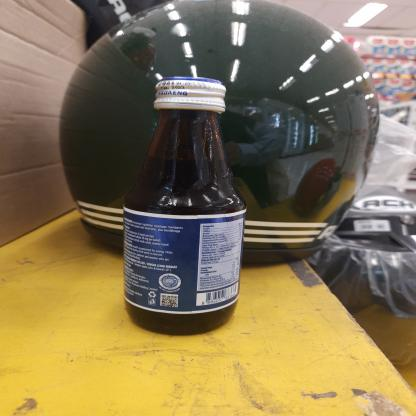glass: (119, 70, 250, 340)
